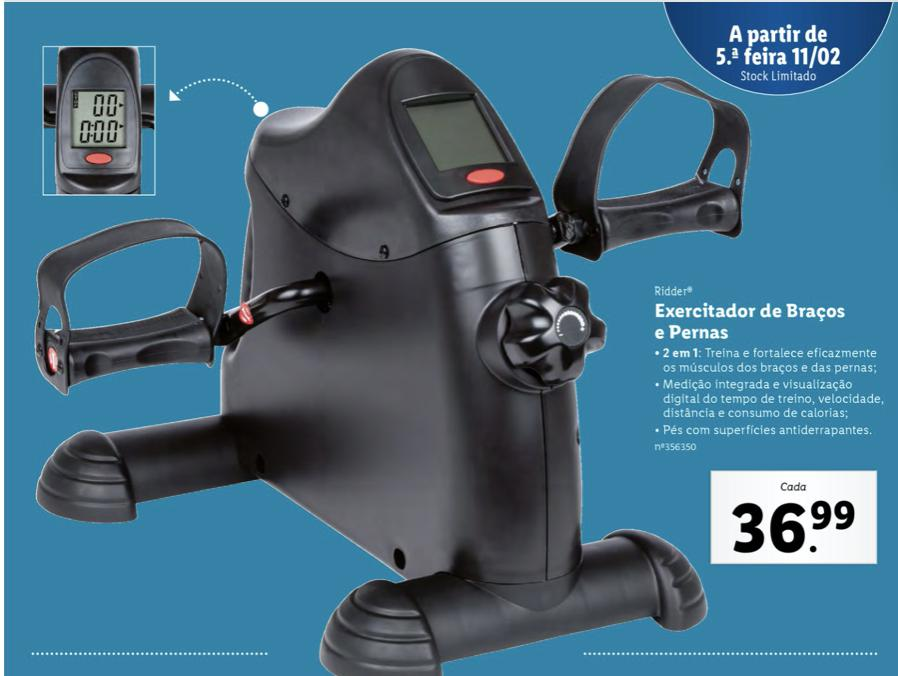name: (646, 299, 849, 345)
price: (726, 494, 860, 557)
product: (12, 1, 893, 670)
